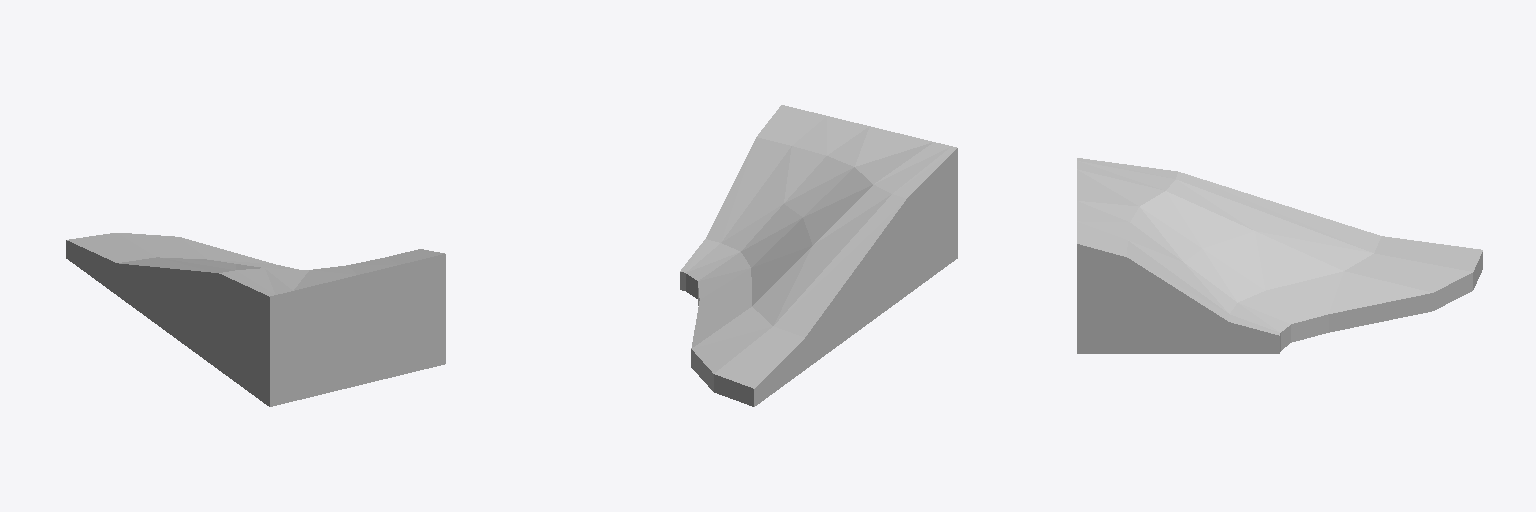
The model's file is Hill_Side_Transition_To_Gentle.obj.
The picture shows the model from 3 angles: view 1: azimuth 30°, elevation 25°; view 2: azimuth 150°, elevation 25°; view 3: azimuth 270°, elevation 25°; orthographic projection.
Parts seen in each view (by area): view 1: object1; view 2: object1; view 3: object1.
Boxes of the visible parts, <box> form: object1: <box>66,233,445,406</box>; object1: <box>680,105,957,406</box>; object1: <box>1077,158,1482,353</box>.
Bounding box in the file's own units: 2 × 1.2 × 4.